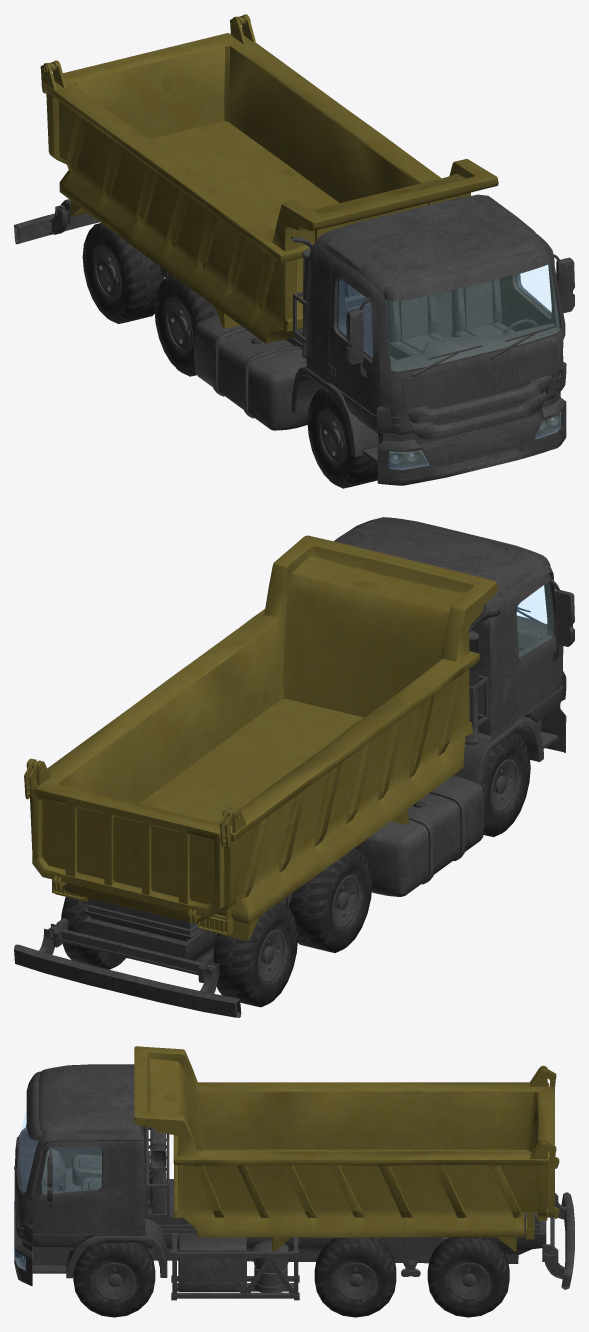
File: dump_truck_draco.glb
3 renders of one model, top to bottom at view 1: azimuth 30°, elevation 25°; view 2: azimuth 150°, elevation 25°; view 3: azimuth 270°, elevation 25°, orthographic. The views are drawn at different scales.
Visible parts, largest first — view 1: dump_truck_01; view 2: dump_truck_01; view 3: dump_truck_01.
Boxes of the visible parts, <box> form: dump_truck_01: <box>14,14,574,488</box>; dump_truck_01: <box>14,517,574,1017</box>; dump_truck_01: <box>14,1046,574,1317</box>.
Bounding box in the file's own units: 2.18 × 2.3 × 5.82.
6 materials, 5 textured.
